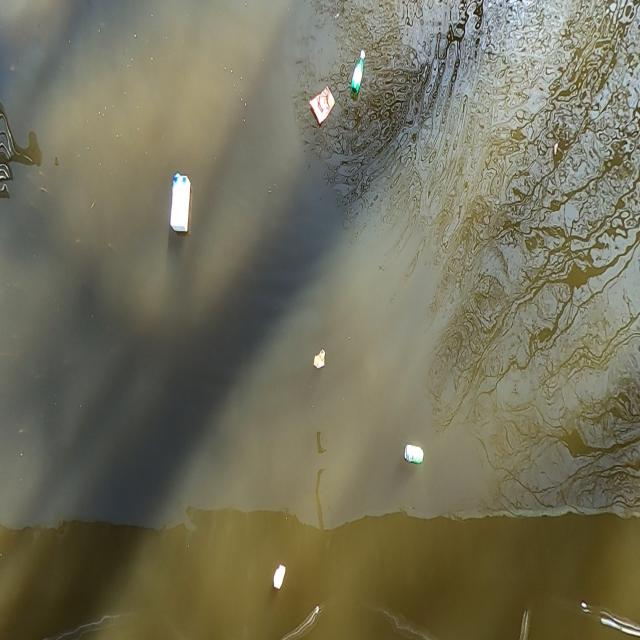Autre plastique: (169, 171, 194, 246), (306, 85, 336, 128)
Bouteille plastique: (346, 46, 372, 106)
Non plastique: (402, 442, 427, 468)
